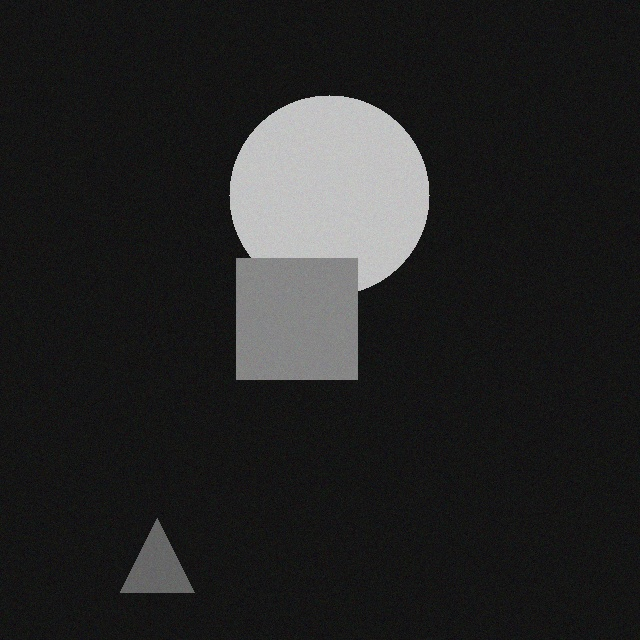circle: (239, 86, 439, 286)
square: (246, 249, 367, 370)
triangle: (130, 509, 204, 583)
